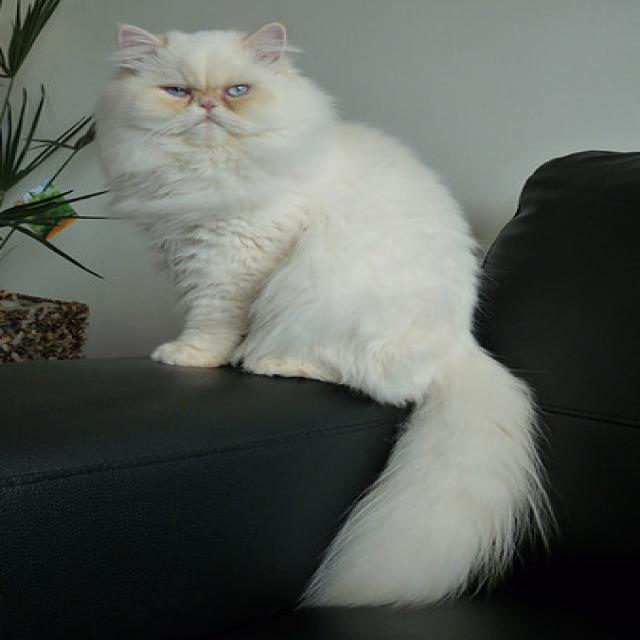Persian: (90, 15, 549, 614)
